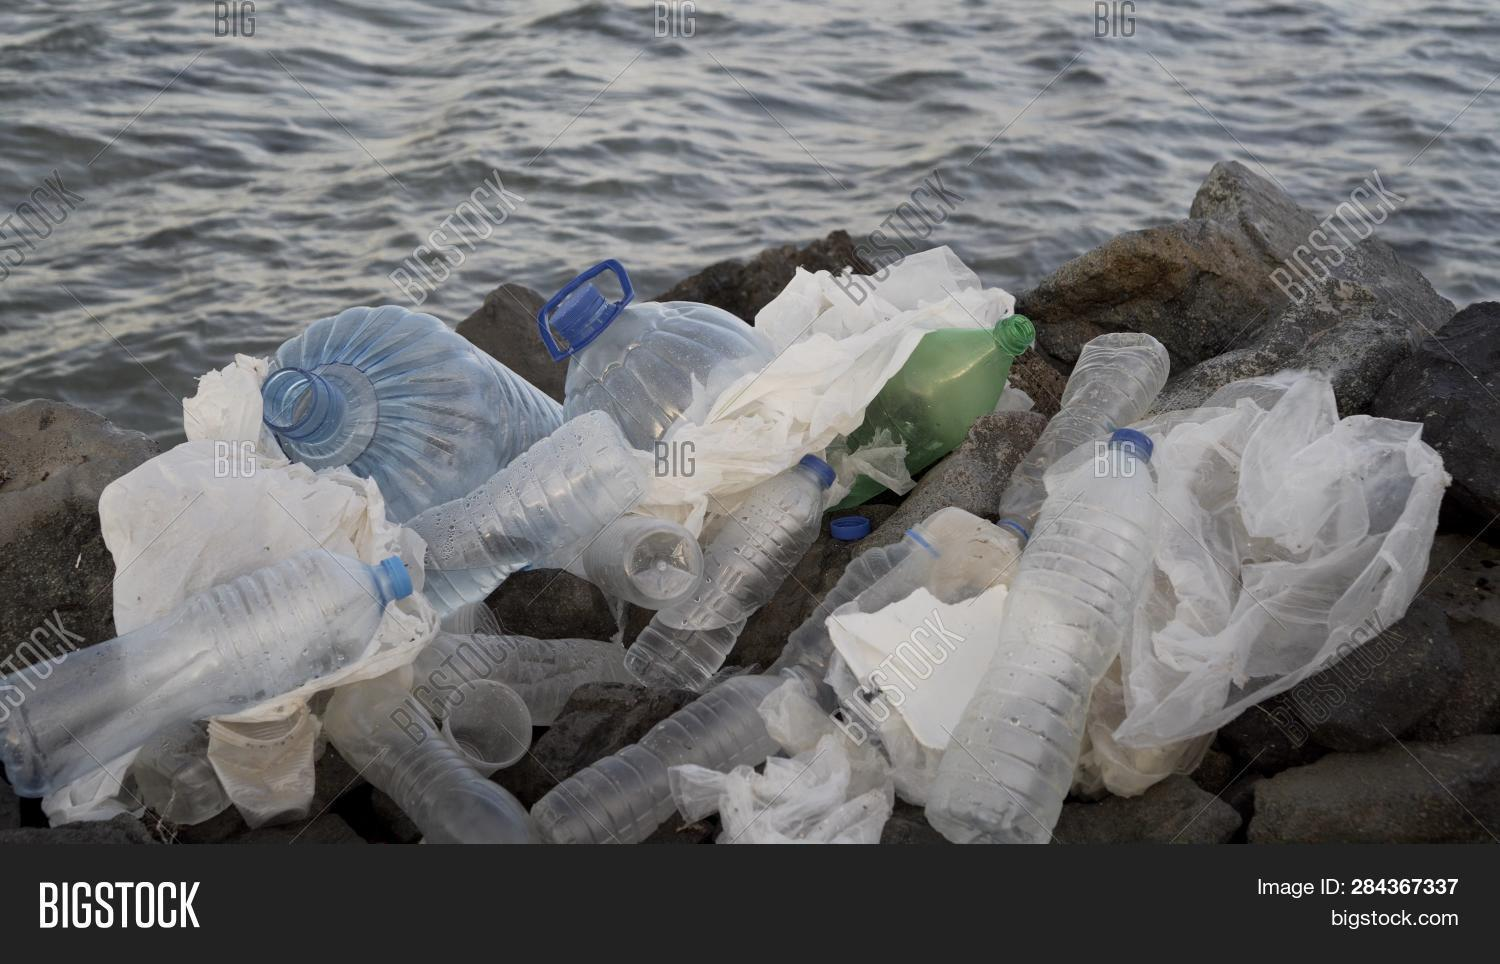plastic_bottle: (149, 161, 849, 581), (901, 136, 1355, 765), (2, 468, 559, 859), (493, 121, 927, 550), (898, 383, 1254, 863), (495, 589, 970, 879), (267, 593, 733, 868), (364, 540, 797, 765), (801, 224, 1031, 640)
